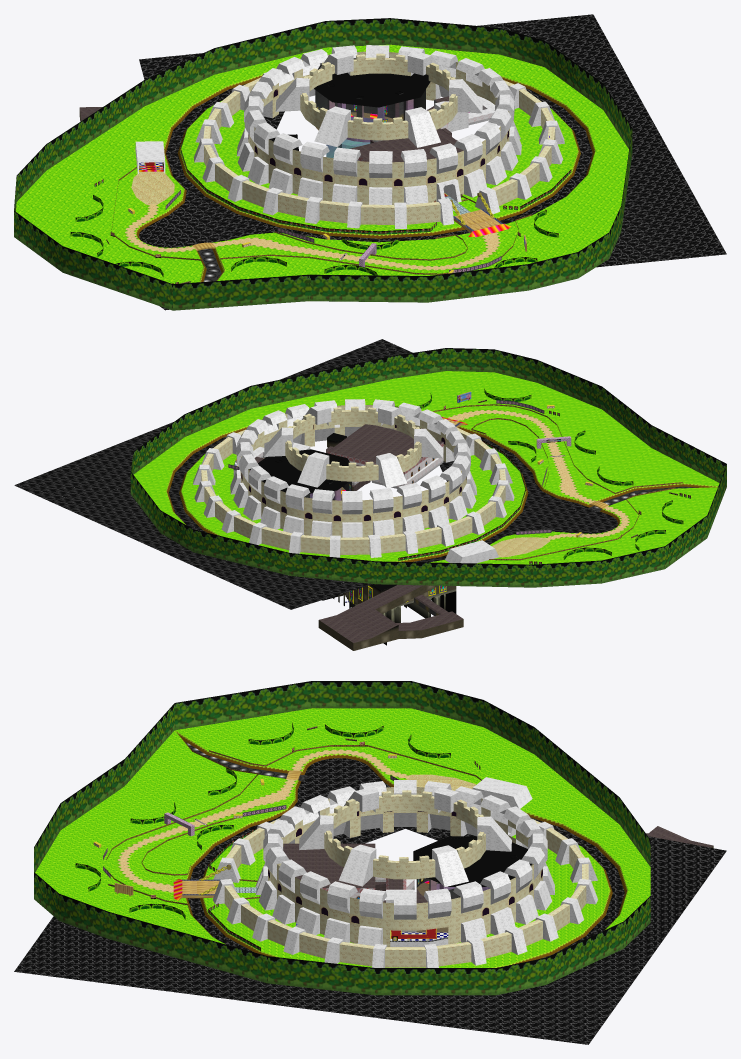
3 renders of one model, top to bottom at view 1: azimuth 30°, elevation 25°; view 2: azimuth 150°, elevation 25°; view 3: azimuth 270°, elevation 25°, orthographic. The views are drawn at different scales.
Parts seen in each view (by area): view 1: course_v2_1-SKP--grass, course_v2_1-SKP--forest, course_v2_1-SKP--wall7, course_v2_1-SKP--water_anm, course_v2_1-SKP--wall1, course_v2_1-SKP--river, course_v2_1-SKP--color0, course_v2_1-SKP--road2, course_v2_1-SKP--object, course_v2_1-SKP--wall0, course_v2_1-SKP--flower1, course_v2_1-SKP--flower0 (+7 smaller); view 2: course_v2_1-SKP--grass, course_v2_1-SKP--forest, course_v2_1-SKP--wall7, course_v2_1-SKP--water_anm, course_v2_1-SKP--wall1, course_v2_1-SKP--wall0, course_v2_1-SKP--river, course_v2_1-SKP--wall5, course_v2_1-SKP--road2, course_v2_1-SKP--color0, course_v2_1-SKP--object, course_v2_1-SKP--flower0 (+5 smaller); view 3: course_v2_1-SKP--grass, course_v2_1-SKP--water_anm, course_v2_1-SKP--forest, course_v2_1-SKP--wall7, course_v2_1-SKP--wall1, course_v2_1-SKP--river, course_v2_1-SKP--road2, course_v2_1-SKP--wall0, course_v2_1-SKP--object, course_v2_1-SKP--color0, course_v2_1-SKP--flower0, course_v2_1-SKP--window.
Part boxes in pixels (bbox=[...]): course_v2_1-SKP--grass: bbox=[16, 44, 628, 283]; course_v2_1-SKP--forest: bbox=[14, 18, 632, 310]; course_v2_1-SKP--wall7: bbox=[135, 45, 564, 228]; course_v2_1-SKP--water_anm: bbox=[139, 14, 726, 310]; course_v2_1-SKP--wall1: bbox=[203, 51, 555, 224]; course_v2_1-SKP--river: bbox=[136, 74, 595, 282]; course_v2_1-SKP--color0: bbox=[271, 57, 430, 150]; course_v2_1-SKP--road2: bbox=[124, 204, 500, 270]; course_v2_1-SKP--object: bbox=[70, 179, 558, 283]; course_v2_1-SKP--wall0: bbox=[79, 96, 463, 162]; course_v2_1-SKP--flower1: bbox=[180, 126, 571, 234]; course_v2_1-SKP--flower0: bbox=[111, 167, 532, 281]; course_v2_1-SKP--grass: bbox=[133, 371, 719, 564]; course_v2_1-SKP--forest: bbox=[130, 348, 726, 587]; course_v2_1-SKP--wall7: bbox=[193, 399, 514, 563]; course_v2_1-SKP--water_anm: bbox=[14, 339, 617, 609]; course_v2_1-SKP--wall1: bbox=[201, 405, 505, 554]; course_v2_1-SKP--wall0: bbox=[254, 424, 462, 642]; course_v2_1-SKP--river: bbox=[166, 426, 718, 561]; course_v2_1-SKP--wall5: bbox=[318, 436, 463, 650]; course_v2_1-SKP--road2: bbox=[447, 409, 630, 540]; course_v2_1-SKP--color0: bbox=[250, 449, 456, 613]; course_v2_1-SKP--object: bbox=[395, 389, 690, 564]; course_v2_1-SKP--flower0: bbox=[433, 404, 682, 560]; course_v2_1-SKP--grass: bbox=[35, 708, 650, 967]; course_v2_1-SKP--water_anm: bbox=[14, 743, 726, 1044]; course_v2_1-SKP--forest: bbox=[34, 681, 650, 995]; course_v2_1-SKP--wall7: bbox=[212, 777, 597, 967]; course_v2_1-SKP--wall1: bbox=[224, 787, 588, 967]; course_v2_1-SKP--river: bbox=[175, 730, 627, 967]; course_v2_1-SKP--road2: bbox=[116, 749, 410, 892]; course_v2_1-SKP--wall0: bbox=[283, 826, 713, 903]; course_v2_1-SKP--object: bbox=[75, 723, 480, 919]; course_v2_1-SKP--color0: bbox=[413, 836, 531, 886]; course_v2_1-SKP--flower0: bbox=[106, 745, 481, 913]; course_v2_1-SKP--window: bbox=[268, 810, 542, 925].
Size of the model in its own units: 167749 by 35200 by 151386.
Materials: 49 (49 with a texture image).
